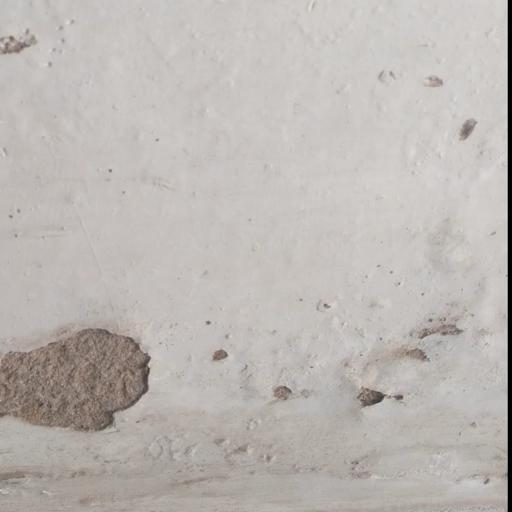peeling: (0, 309, 172, 446), (340, 287, 477, 417), (352, 48, 489, 165), (194, 298, 302, 412), (0, 0, 63, 76)
